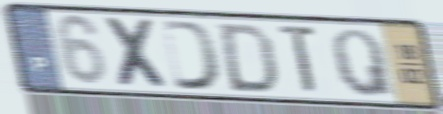6: (53, 12, 113, 91)
D: (159, 18, 224, 93), (218, 21, 279, 95)
Q: (329, 26, 398, 100)
T: (277, 22, 320, 98)
X: (100, 14, 176, 92)
